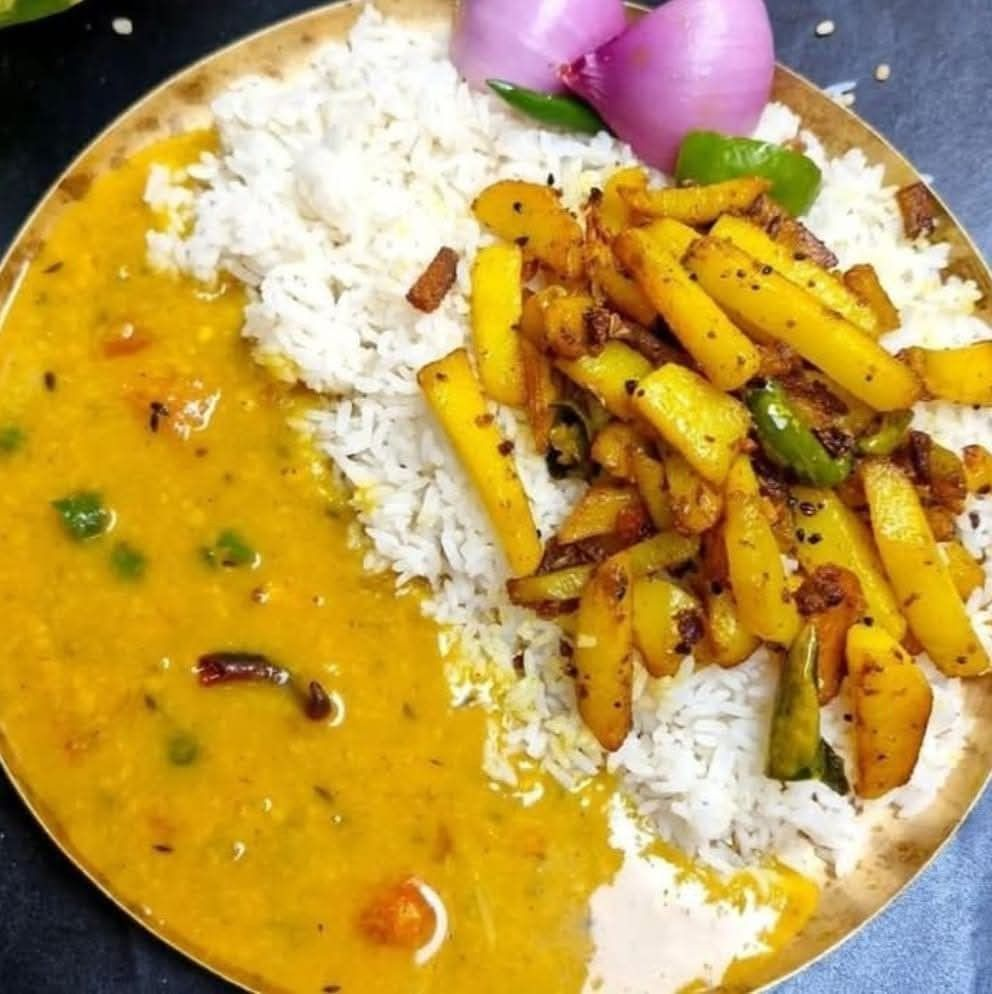bhat: (165, 63, 985, 879)
dal: (4, 119, 814, 992)
